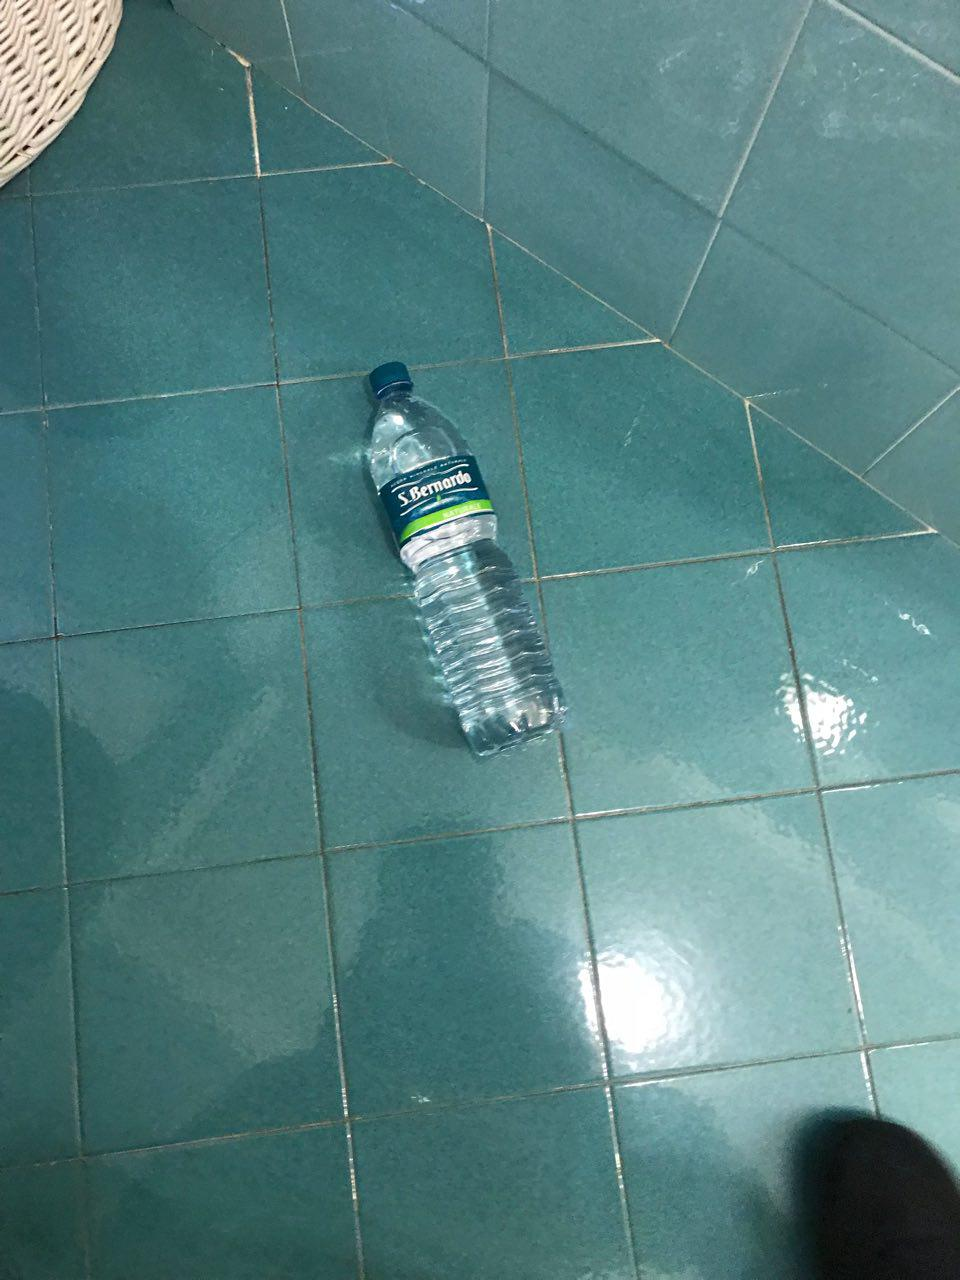san_bernardo: (367, 361, 570, 762)
